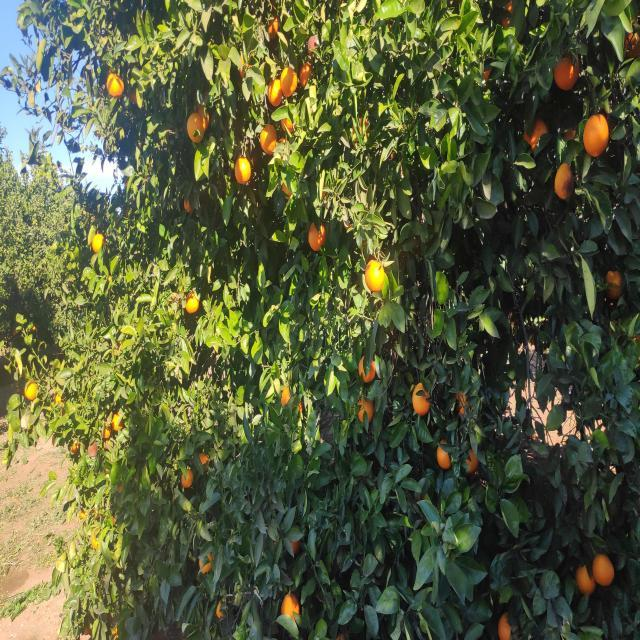Jeruk Sudah Matang: (584, 114, 610, 157), (554, 55, 580, 91), (523, 117, 549, 150), (554, 162, 574, 200), (592, 554, 614, 586), (365, 260, 385, 292), (412, 383, 432, 414), (576, 564, 594, 596), (281, 592, 300, 622), (260, 124, 278, 154), (188, 112, 205, 143), (280, 68, 298, 96), (606, 271, 624, 299), (358, 356, 376, 382), (310, 222, 326, 251), (357, 398, 374, 424), (464, 448, 479, 477), (282, 107, 300, 131), (106, 74, 125, 96), (236, 156, 252, 182), (268, 79, 282, 107), (498, 612, 512, 640), (437, 441, 451, 468), (198, 554, 214, 574), (300, 62, 312, 88), (185, 292, 199, 313), (456, 390, 467, 415), (267, 16, 279, 38), (503, 1, 513, 27), (200, 106, 210, 131), (92, 232, 104, 252), (282, 386, 292, 408), (112, 413, 124, 431), (25, 382, 37, 399), (182, 470, 193, 487), (289, 542, 302, 556), (283, 184, 292, 202), (216, 600, 225, 618), (102, 420, 111, 438), (199, 452, 210, 466), (54, 394, 66, 404), (184, 200, 192, 212), (72, 442, 78, 453)
